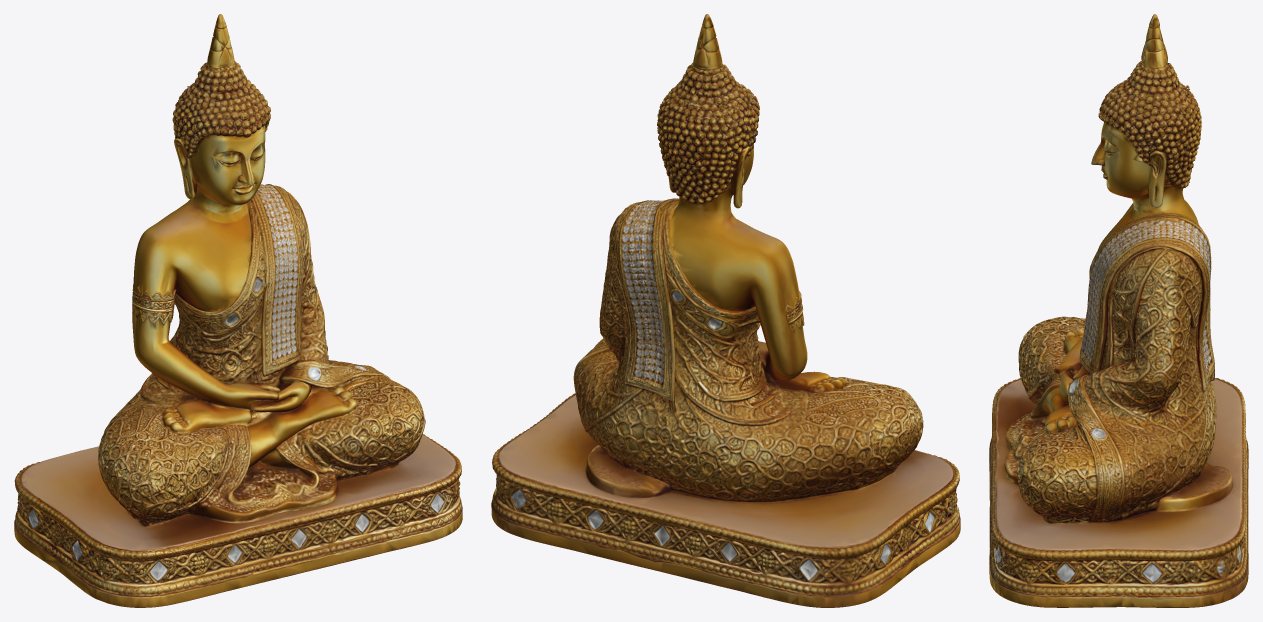
The model's file is buddha_2.glb.
3 renders of one model, left to right at view 1: azimuth 30°, elevation 25°; view 2: azimuth 150°, elevation 25°; view 3: azimuth 270°, elevation 25°, orthographic. The views are drawn at different scales.
Parts seen in each view (by area): view 1: tripo_node_357f94e9-3deb-405d-ba43-d5fb31908474; view 2: tripo_node_357f94e9-3deb-405d-ba43-d5fb31908474; view 3: tripo_node_357f94e9-3deb-405d-ba43-d5fb31908474.
Part boxes in pixels (<box>): tripo_node_357f94e9-3deb-405d-ba43-d5fb31908474: <box>14,14,462,607</box>; tripo_node_357f94e9-3deb-405d-ba43-d5fb31908474: <box>491,14,960,607</box>; tripo_node_357f94e9-3deb-405d-ba43-d5fb31908474: <box>989,14,1248,607</box>.
Bounding box in the file's own units: 0.7511 × 0.9786 × 0.4565.
Materials: 1 (1 with a texture image).
